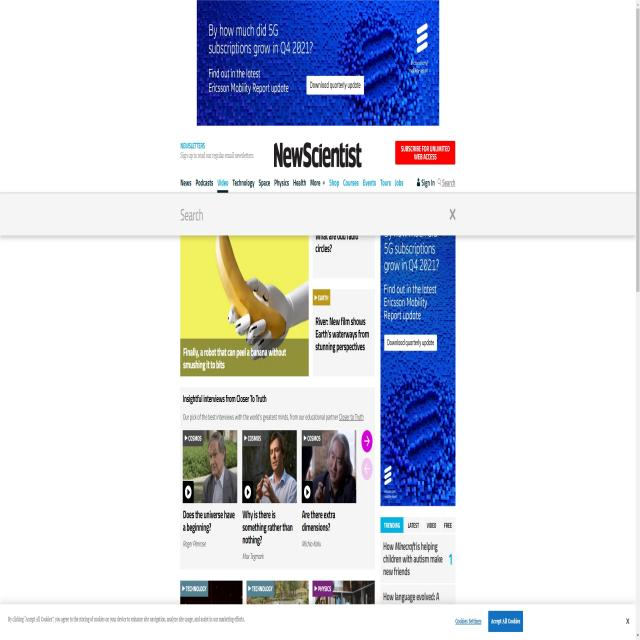menu-bar: (413, 172, 457, 192)
tab-bar: (180, 172, 404, 192), (378, 512, 456, 536)
